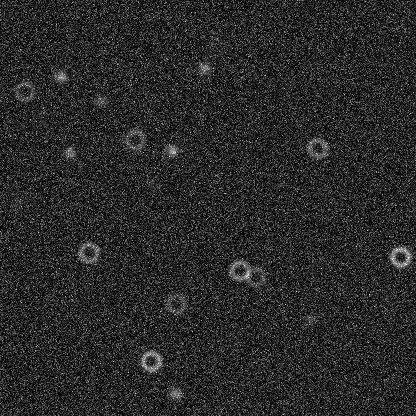Ring: (305, 135, 329, 159), (164, 291, 188, 315), (227, 258, 251, 282), (138, 348, 162, 372), (243, 264, 267, 288), (76, 240, 100, 264), (123, 127, 147, 151), (388, 244, 412, 268), (12, 79, 36, 103), (203, 36, 227, 60)
Spot: (167, 385, 183, 401), (10, 195, 26, 211), (195, 60, 211, 76), (163, 142, 179, 158), (92, 93, 108, 109), (52, 68, 68, 84), (143, 174, 159, 190), (301, 312, 317, 328), (61, 144, 77, 160)
